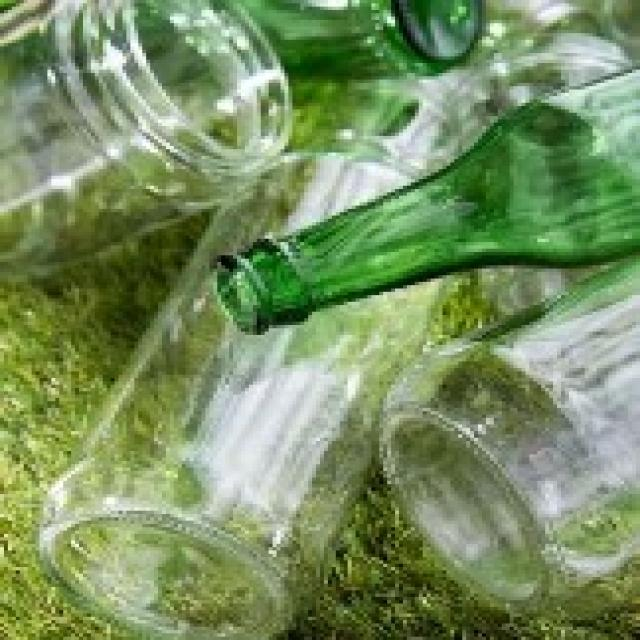electronic: (201, 53, 640, 332)
